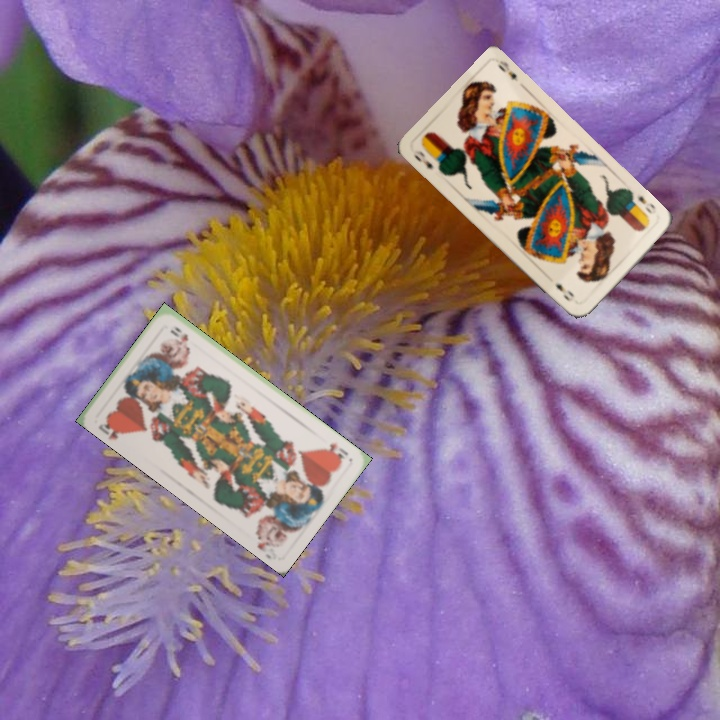EO: (408, 146, 436, 172), (632, 192, 658, 217)
HO: (94, 414, 129, 442), (325, 437, 351, 464)
